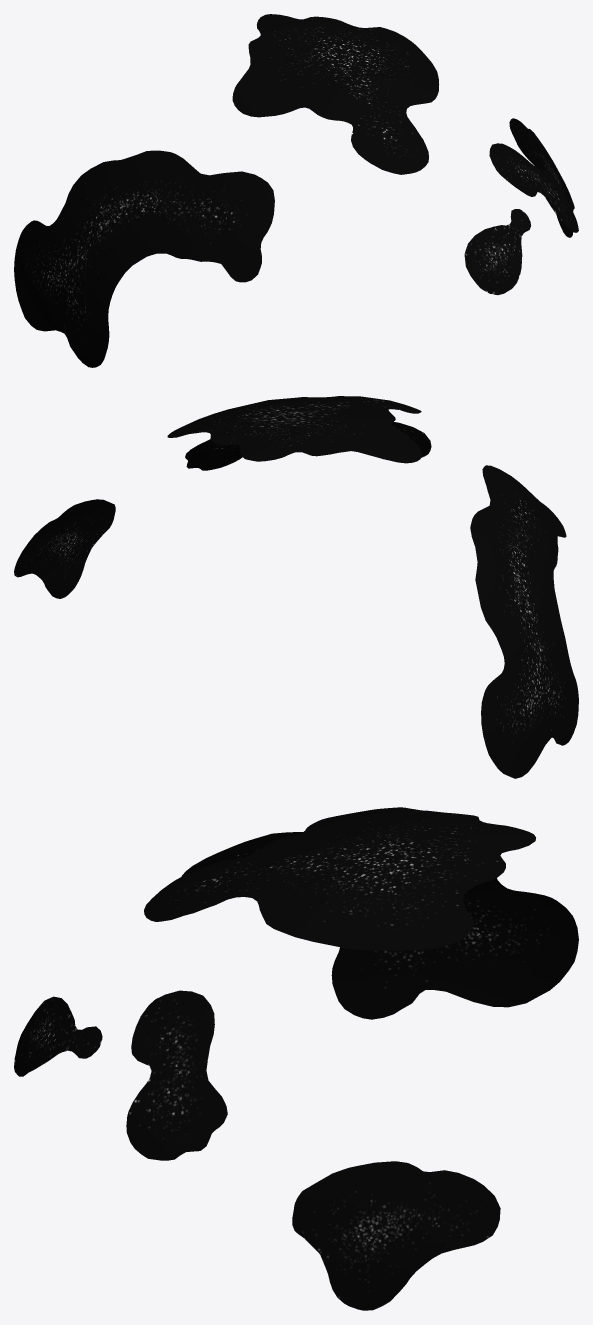
File: Phase2.dae
The picture shows the model from 3 angles, top to bottom: view 1: azimuth 30°, elevation 25°; view 2: azimuth 150°, elevation 25°; view 3: azimuth 270°, elevation 25°; orthographic projection. The views are drawn at different scales.
Visible parts, largest first — view 1: Spot3, Spot4, Spot5, Spot6, Spot7; view 2: Spot3, Spot4, Spot7, Spot6, Spot5; view 3: Spot4, Spot3, Spot7, Spot6, Spot5.
Part boxes in pixels (x1,y1,x2,y2): Spot3: [14, 150, 274, 367]; Spot4: [232, 14, 439, 174]; Spot5: [464, 209, 530, 295]; Spot6: [489, 143, 578, 232]; Spot7: [509, 118, 574, 237]; Spot3: [470, 465, 578, 778]; Spot4: [167, 396, 421, 463]; Spot7: [14, 499, 115, 598]; Spot6: [185, 439, 242, 470]; Spot5: [391, 421, 431, 457]; Spot4: [144, 807, 535, 950]; Spot3: [181, 832, 578, 1019]; Spot7: [292, 1161, 500, 1310]; Spot6: [126, 990, 227, 1160]; Spot5: [14, 996, 102, 1076].
Size of the model in its own units: 13.96 by 6.93 by 10.39.
Materials: 1 (1 with a texture image).
